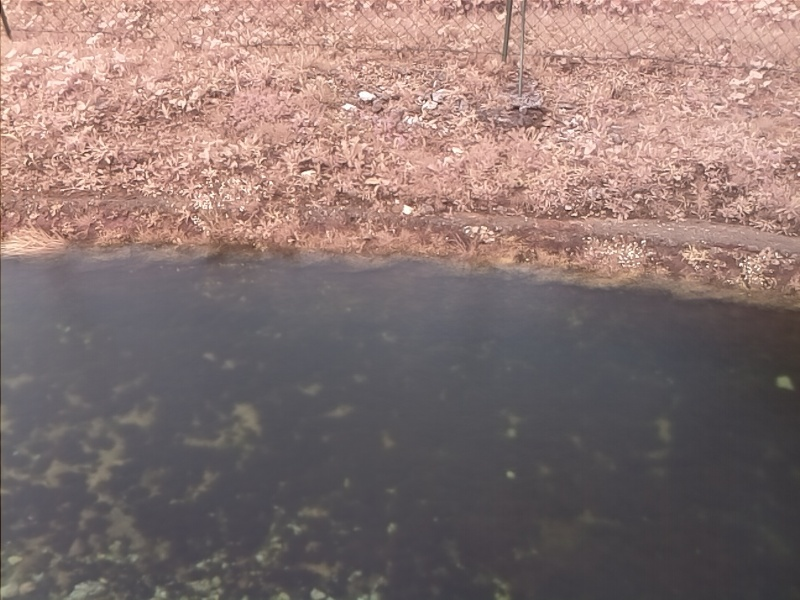Water: (1, 244, 798, 600)
